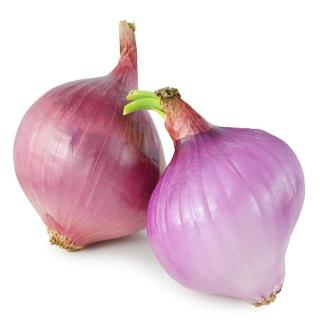Bawang Merah: (124, 87, 309, 308), (12, 20, 171, 254)
